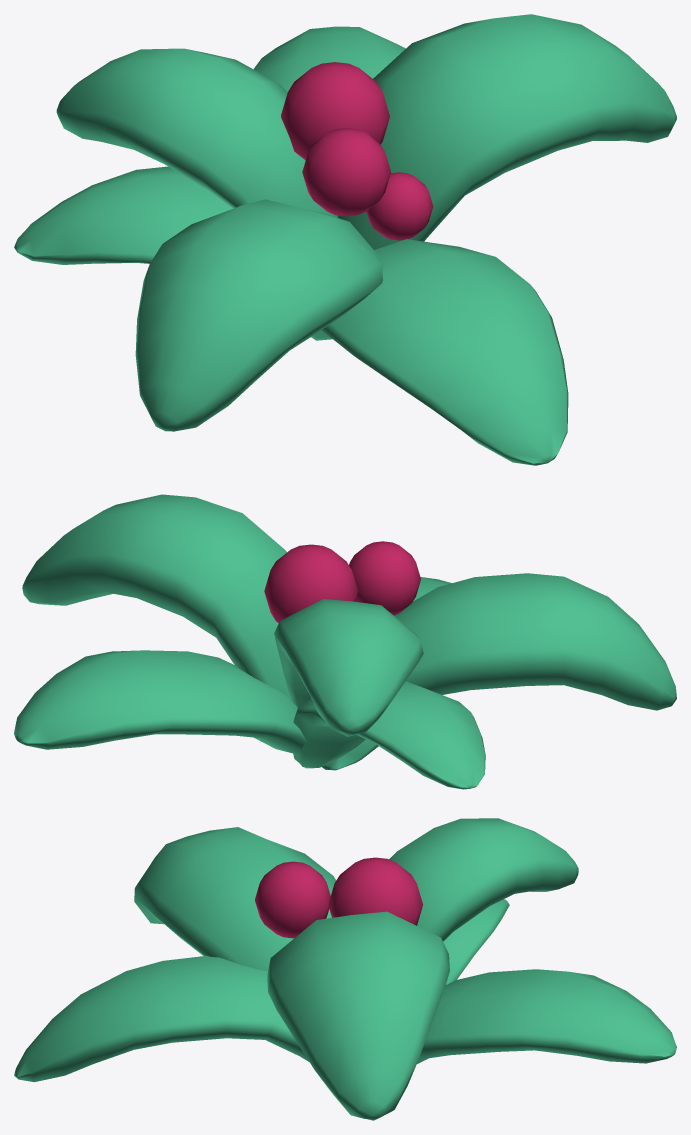
File: PlantA+Fruits.fbx
The picture shows the model from 3 angles, top to bottom: view 1: azimuth 30°, elevation 25°; view 2: azimuth 150°, elevation 25°; view 3: azimuth 270°, elevation 25°; orthographic projection. The views are drawn at different scales.
Parts seen in each view (by area): view 1: plantA_forest_fruits; view 2: plantA_forest_fruits; view 3: plantA_forest_fruits.
Boxes of the visible parts, <box> form: plantA_forest_fruits: <box>14,14,676,465</box>; plantA_forest_fruits: <box>14,494,676,789</box>; plantA_forest_fruits: <box>14,818,676,1120</box>.
Size of the model in its own units: 67.13 by 26.24 by 69.5.
